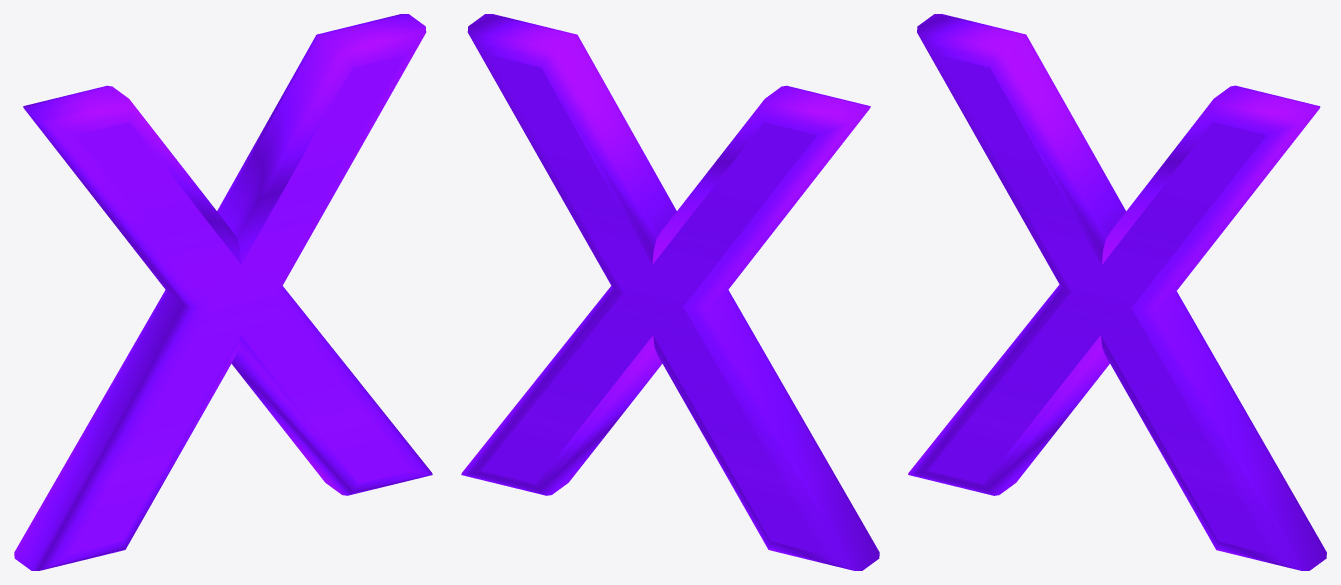
The picture shows the model from 3 angles, left to right: view 1: azimuth 30°, elevation 25°; view 2: azimuth 150°, elevation 25°; view 3: azimuth 330°, elevation 25°; orthographic projection.
Visible parts, largest first — view 1: IndicatorXPurple; view 2: IndicatorXPurple; view 3: IndicatorXPurple.
Part boxes in pixels (<box>): IndicatorXPurple: <box>14,14,432,570</box>; IndicatorXPurple: <box>461,14,879,570</box>; IndicatorXPurple: <box>908,14,1326,570</box>.
Bounding box in the file's own units: 0.4438 × 0.4743 × 0.0645.
1 material, 1 textured.
